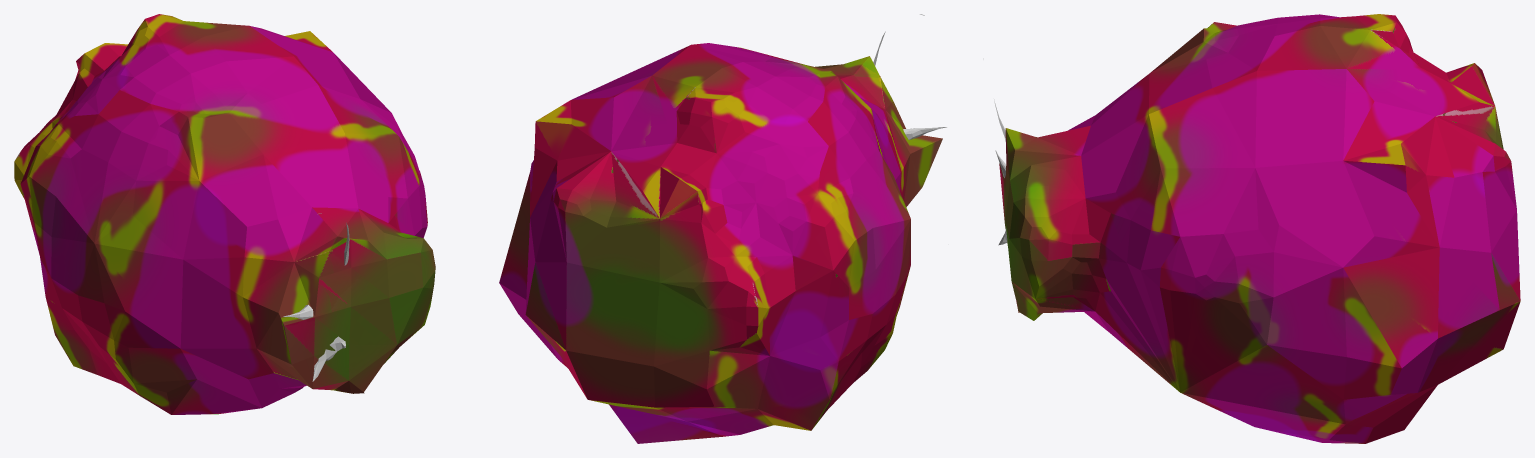
Rendered from render.obj.
The picture shows the model from 3 angles, left to right: view 1: azimuth 30°, elevation 25°; view 2: azimuth 150°, elevation 25°; view 3: azimuth 270°, elevation 25°; orthographic projection. The views are drawn at different scales.
Parts seen in each view (by area): view 1: dragonfruit_Quad_Sphere.001, Quad_Sphere; view 2: dragonfruit_Quad_Sphere.001; view 3: dragonfruit_Quad_Sphere.001.
Boxes of the visible parts, x1,y1,x2,y2 form: dragonfruit_Quad_Sphere.001: [14, 14, 435, 414]; Quad_Sphere: [283, 213, 349, 381]; dragonfruit_Quad_Sphere.001: [499, 43, 942, 443]; dragonfruit_Quad_Sphere.001: [999, 14, 1520, 443].
Bounding box in the file's own units: 4.43 × 4.54 × 5.71.
